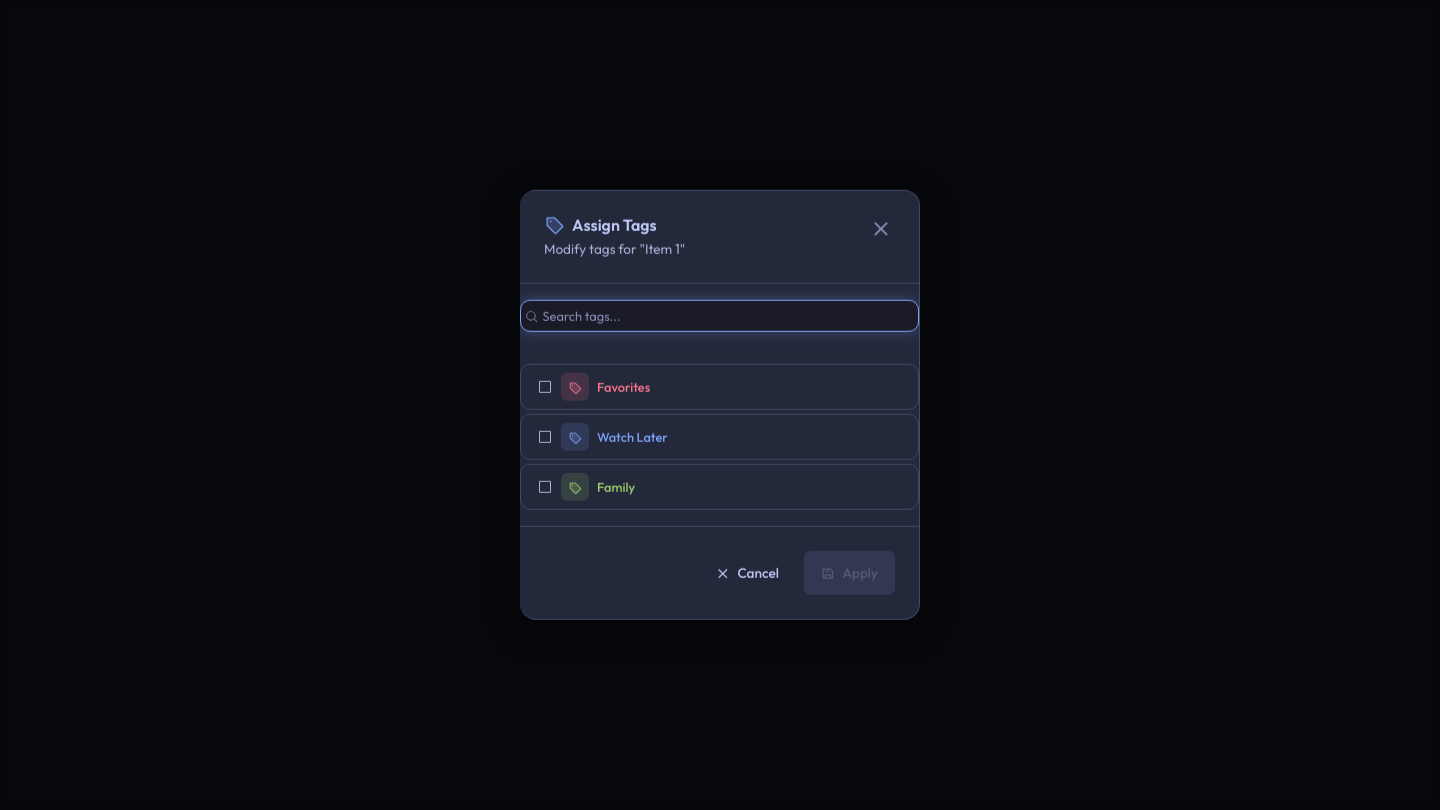
Test: BulkTagAssignment › tag interactions › cycles through states: add -> remove -> unchanged
The image size is (1440, 810).
Click the button "Favorites". click: (624, 387)
box: [520,364,919,410]
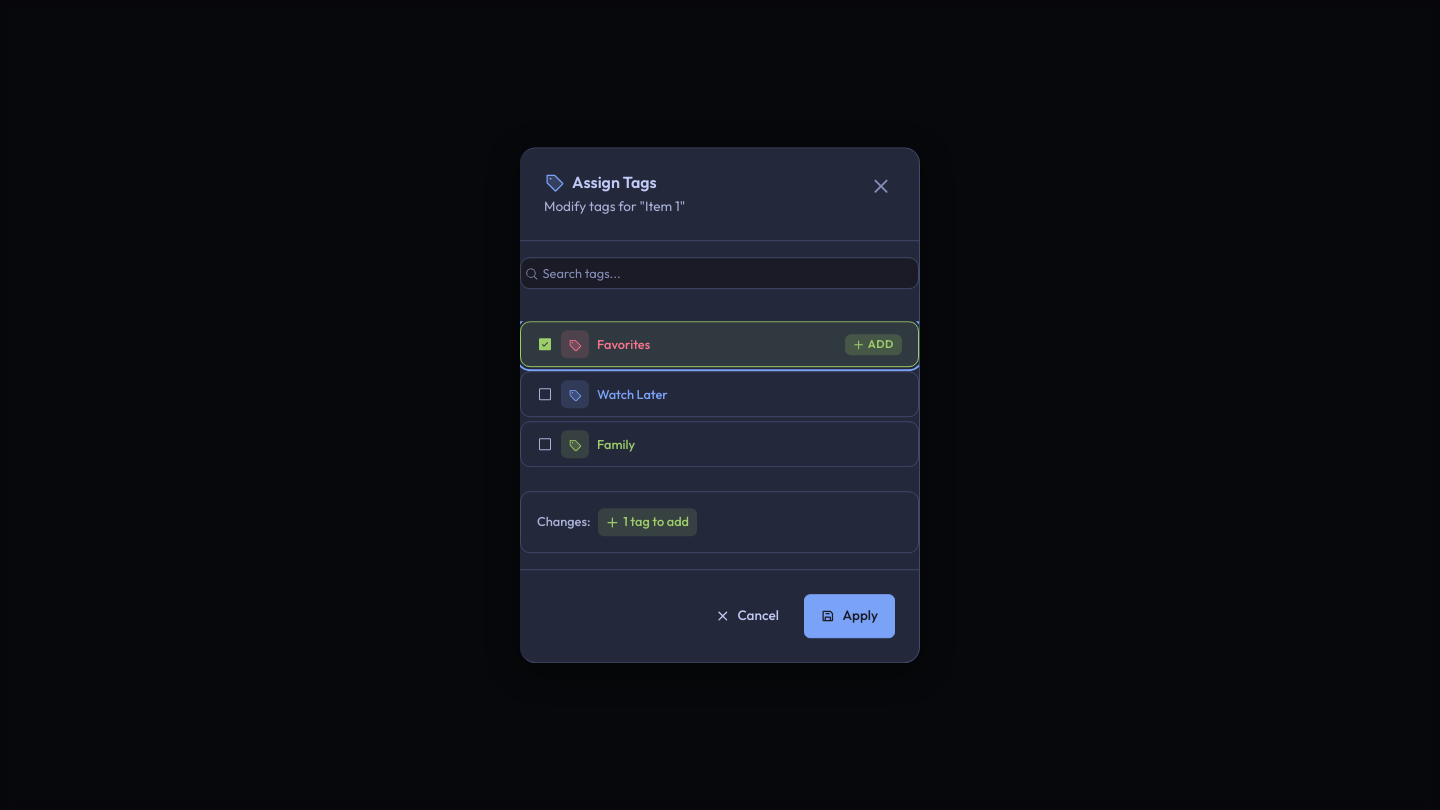
expect the text "Add" is shown: met, box [868,336,894,353]
Click the button "Favorites Add". click: (624, 344)
box: [520,322,919,368]
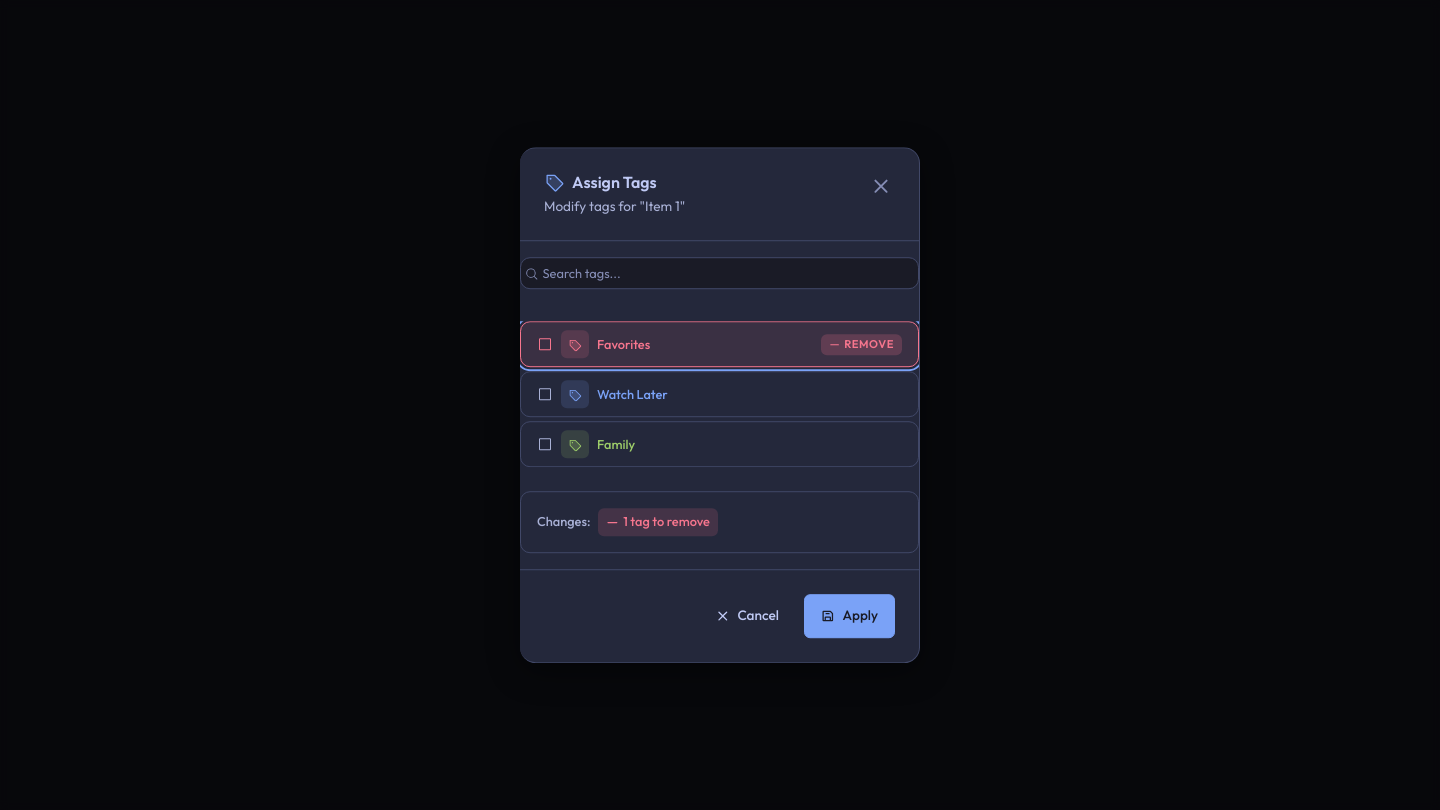
expect the text "Remove" is shown: met, box [844,336,894,353]
Click the button "Favorites Remove". click: (624, 344)
box: [520,322,919,368]
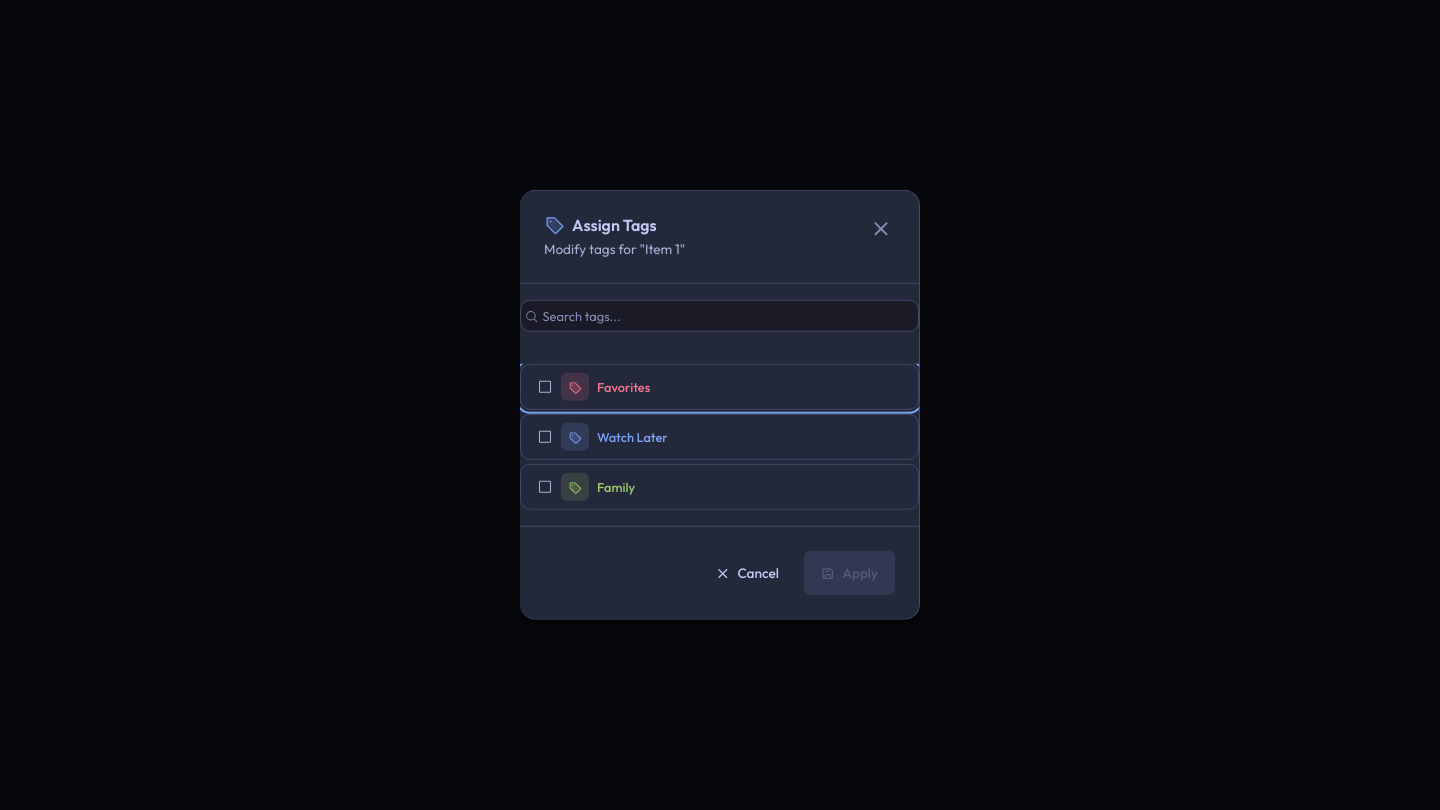
expect the text "Add" is not shown: met
expect the text "Remove" is gone: met
